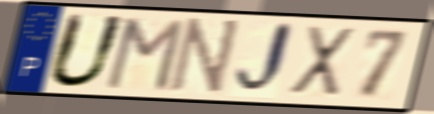7: (360, 28, 408, 102)
J: (232, 19, 297, 99)
M: (102, 16, 187, 94)
N: (165, 16, 244, 99)
U: (44, 11, 130, 91)
X: (286, 23, 358, 101)
